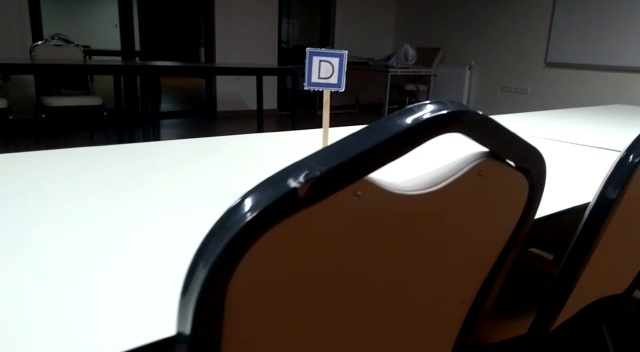durak: (304, 48, 346, 91)
